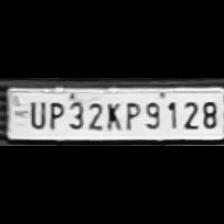1: (162, 98, 180, 130)
2: (179, 97, 199, 131), (85, 97, 103, 130)
3: (65, 97, 83, 131)
8: (198, 96, 220, 130)
9: (142, 97, 162, 130)
K: (104, 99, 122, 131)
P: (120, 97, 140, 130), (45, 98, 65, 130)
U: (26, 98, 44, 128)
